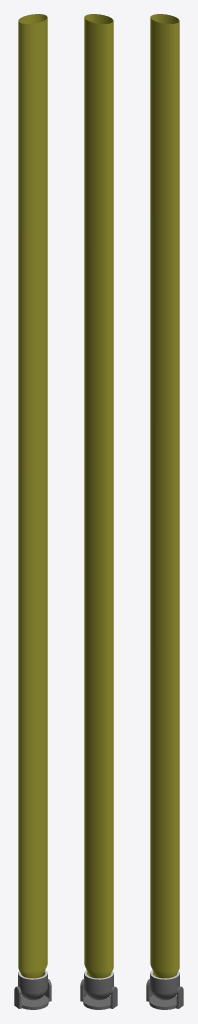
File: StageLight.fbx
3 views of the same model, side by side, from view 1: azimuth 30°, elevation 25°; view 2: azimuth 150°, elevation 25°; view 3: azimuth 330°, elevation 25° (orthographic).
Parts seen in each view (by area): view 1: Light_A, StageLight_A; view 2: Light_A, StageLight_A; view 3: Light_A, StageLight_A.
Boxes of the visible parts, bbox=[...] form: Light_A: bbox=[18, 14, 47, 1000]; StageLight_A: bbox=[14, 979, 51, 1009]; Light_A: bbox=[84, 14, 113, 1000]; StageLight_A: bbox=[80, 979, 117, 1009]; Light_A: bbox=[150, 14, 179, 1000]; StageLight_A: bbox=[146, 979, 183, 1009].
Bounding box in the file's own units: 23.85 × 692 × 20.
